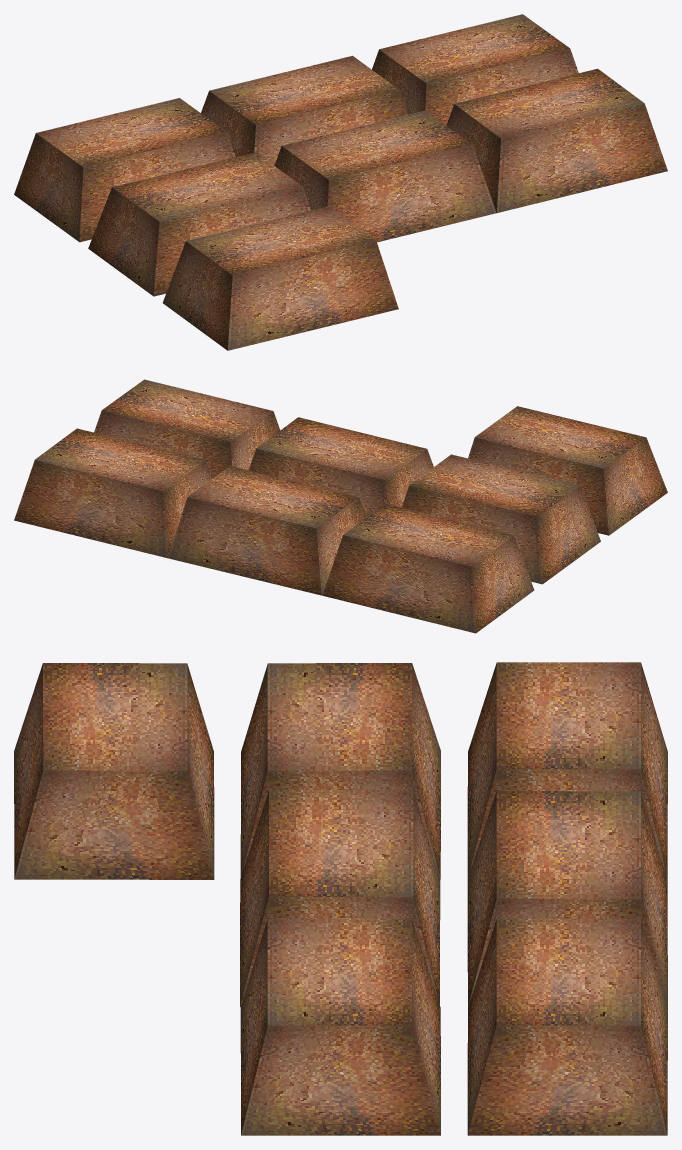
File: iron_7.glb
The picture shows the model from 3 angles, top to bottom: view 1: azimuth 30°, elevation 25°; view 2: azimuth 150°, elevation 25°; view 3: azimuth 270°, elevation 25°; orthographic projection. The views are drawn at different scales.
Visible parts, largest first — view 1: iron01.001; view 2: iron01.001; view 3: iron01.001.
Part boxes in pixels (bbox=[...]): iron01.001: bbox=[14, 14, 667, 350]; iron01.001: bbox=[14, 379, 667, 633]; iron01.001: bbox=[14, 662, 667, 1135].
Bounding box in the file's own units: 189 × 22.94 × 136.
1 material, 1 textured.
